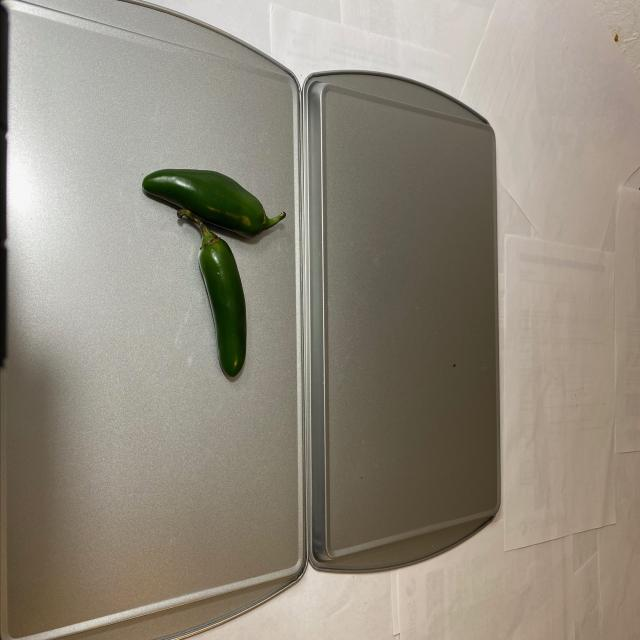chilli: (142, 171, 288, 381)
